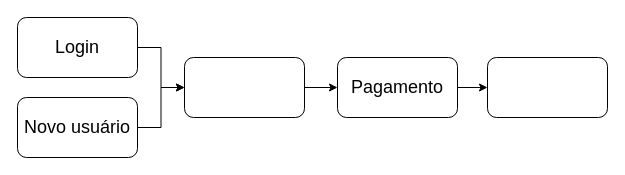
Some shapes in this 625 by 175 pixel diagram are drawn without their labels. Each missing label, with the centre of its shape:
"Página inicial" goes at (244,87).
"Sucesso" goes at (547,87).
